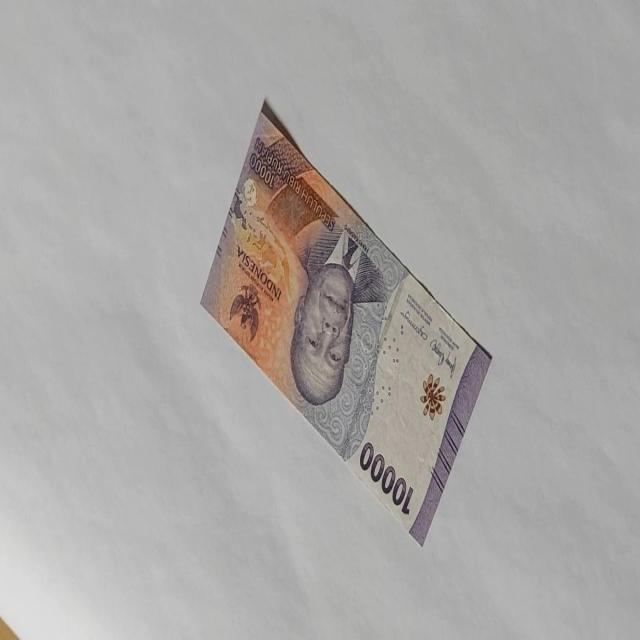Kertas: (199, 96, 493, 548), (358, 440, 414, 516)
